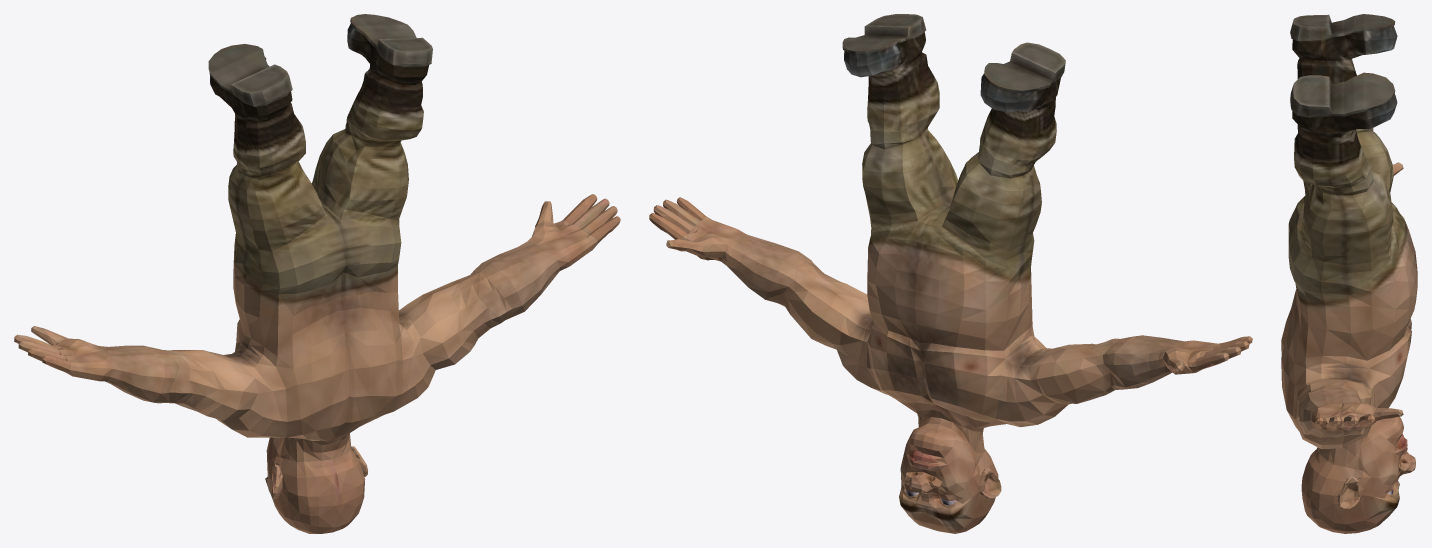
The model's file is dwarf.glb.
3 renders of one model, left to right at view 1: azimuth 30°, elevation 25°; view 2: azimuth 150°, elevation 25°; view 3: azimuth 270°, elevation 25°, orthographic.
Visible parts, largest first — view 1: dwarf.obj; view 2: dwarf.obj; view 3: dwarf.obj.
Boxes of the visible parts, x1,y1,x2,y2 form: dwarf.obj: (14,14,620,533); dwarf.obj: (649,14,1252,533); dwarf.obj: (1281,14,1417,533).
Bounding box in the file's own units: 0.9997 × 0.7846 × 0.2033.
Materials: 1 (1 with a texture image).
